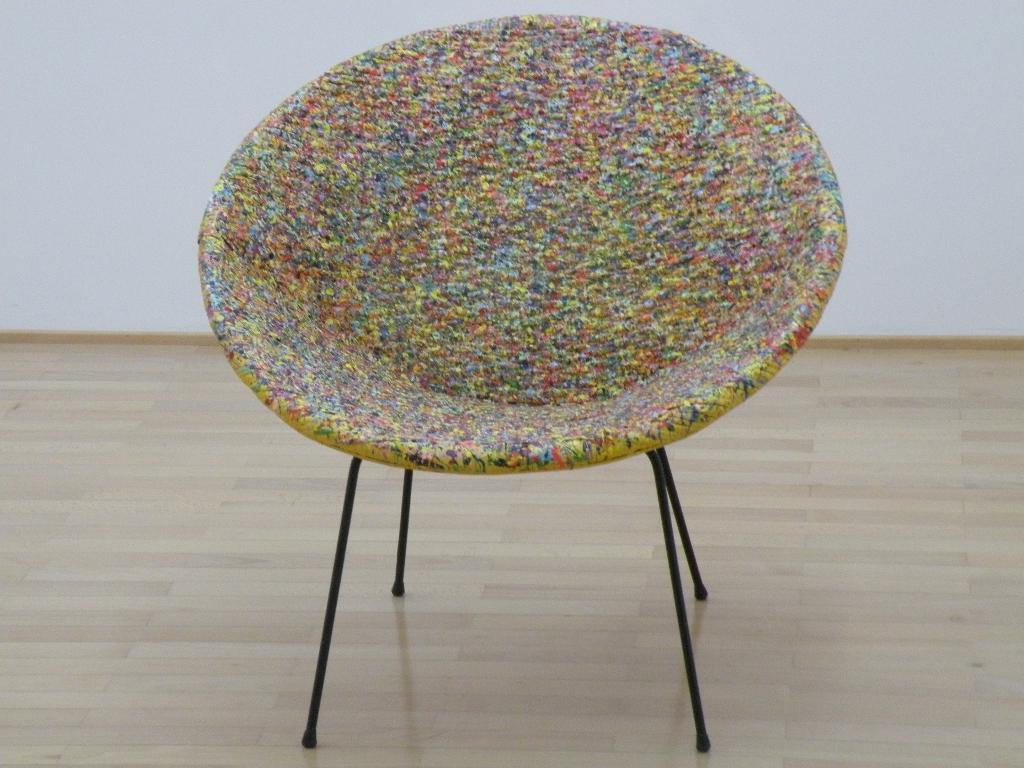Chair: (218, 17, 895, 760)
